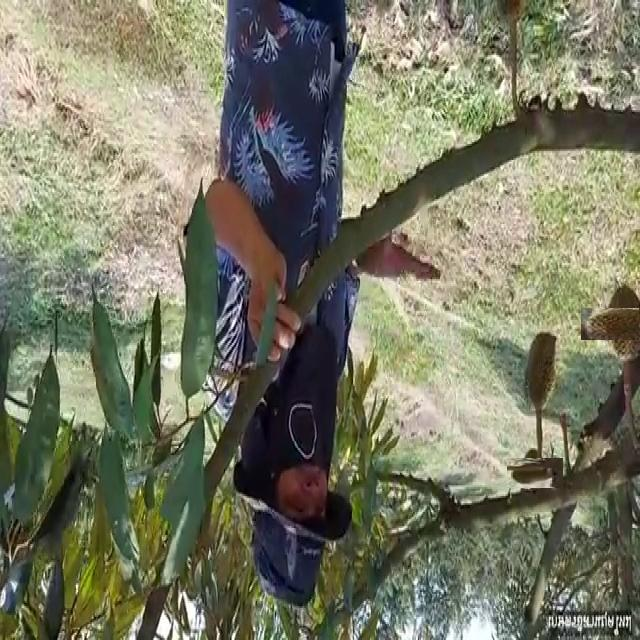durian: (522, 326, 562, 415), (593, 296, 640, 353), (514, 451, 556, 494)
